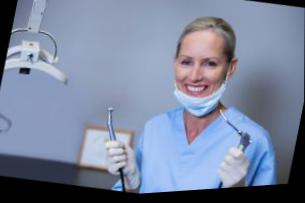WRONG: (168, 43, 229, 117)
